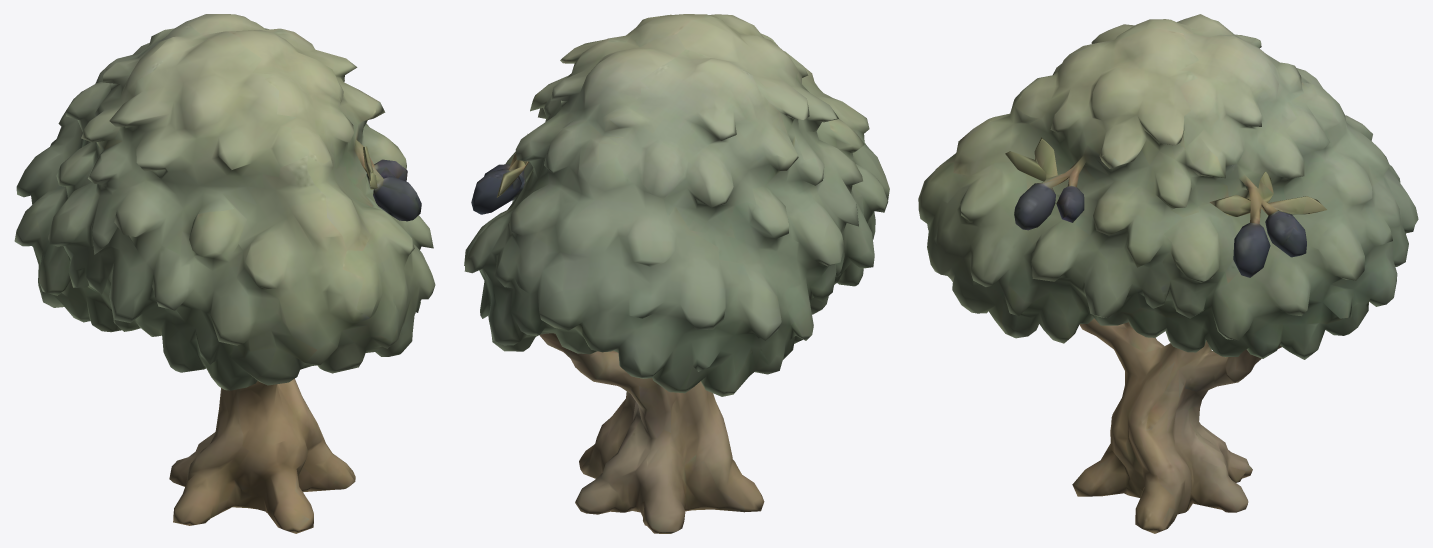
File: olive2.glb
3 views of the same model, side by side, from view 1: azimuth 30°, elevation 25°; view 2: azimuth 150°, elevation 25°; view 3: azimuth 270°, elevation 25° (orthographic). The views are drawn at different scales.
Visible parts, largest first — view 1: tripo_node_63be6c5e-c09a-42f6-a7d9-c2d96127265e; view 2: tripo_node_63be6c5e-c09a-42f6-a7d9-c2d96127265e; view 3: tripo_node_63be6c5e-c09a-42f6-a7d9-c2d96127265e.
Part boxes in pixels (box(x1,y1,x2,y2)): tripo_node_63be6c5e-c09a-42f6-a7d9-c2d96127265e: box(14, 14, 435, 533); tripo_node_63be6c5e-c09a-42f6-a7d9-c2d96127265e: box(464, 14, 889, 533); tripo_node_63be6c5e-c09a-42f6-a7d9-c2d96127265e: box(918, 14, 1418, 533).
Bounding box in the file's own units: 0.7467 × 1 × 0.9991.
Materials: 1 (1 with a texture image).
